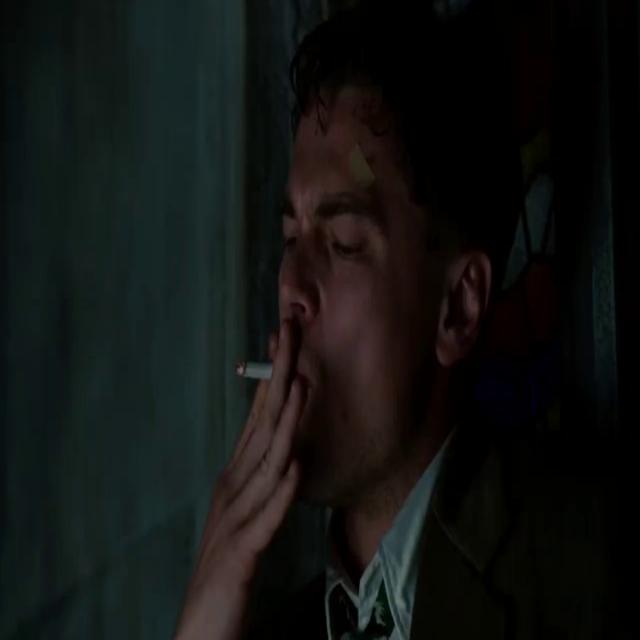Smooking: (234, 354, 282, 392)
